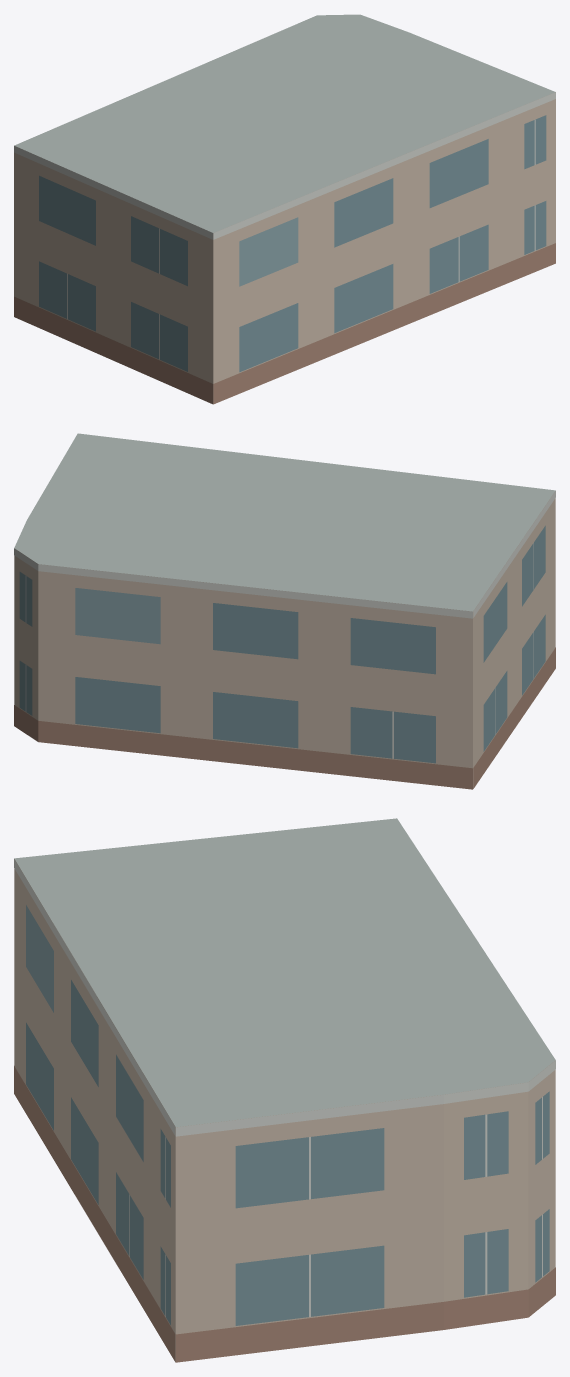
File: survey-upis-32624085.glb
3 views of the same model, one above another, from view 1: azimuth 30°, elevation 25°; view 2: azimuth 150°, elevation 25°; view 3: azimuth 270°, elevation 25° (orthographic). The views are drawn at different scales.
Parts seen in each view (by area): view 1: survey-upis-32624085.tmp; view 2: survey-upis-32624085.tmp; view 3: survey-upis-32624085.tmp.
Part boxes in pixels (box(x1,y1,x2,y2)): survey-upis-32624085.tmp: box(14, 14, 555, 404); survey-upis-32624085.tmp: box(14, 433, 555, 789); survey-upis-32624085.tmp: box(14, 818, 555, 1362).
Size of the model in its own units: 17.19 by 6.1 by 12.74.
